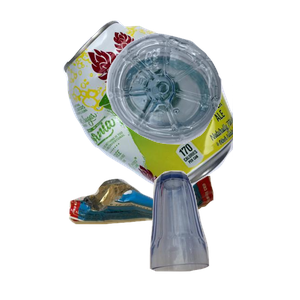glass: (147, 168, 300, 300)
metal: (60, 18, 300, 198)
plastic: (104, 31, 300, 168)
trash: (66, 173, 272, 300)
